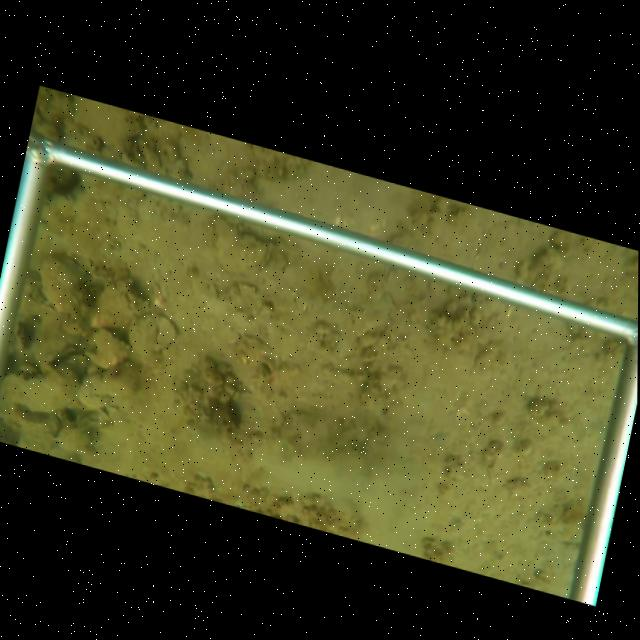Oyster-Closed: (35, 250, 97, 327), (212, 215, 276, 276)
